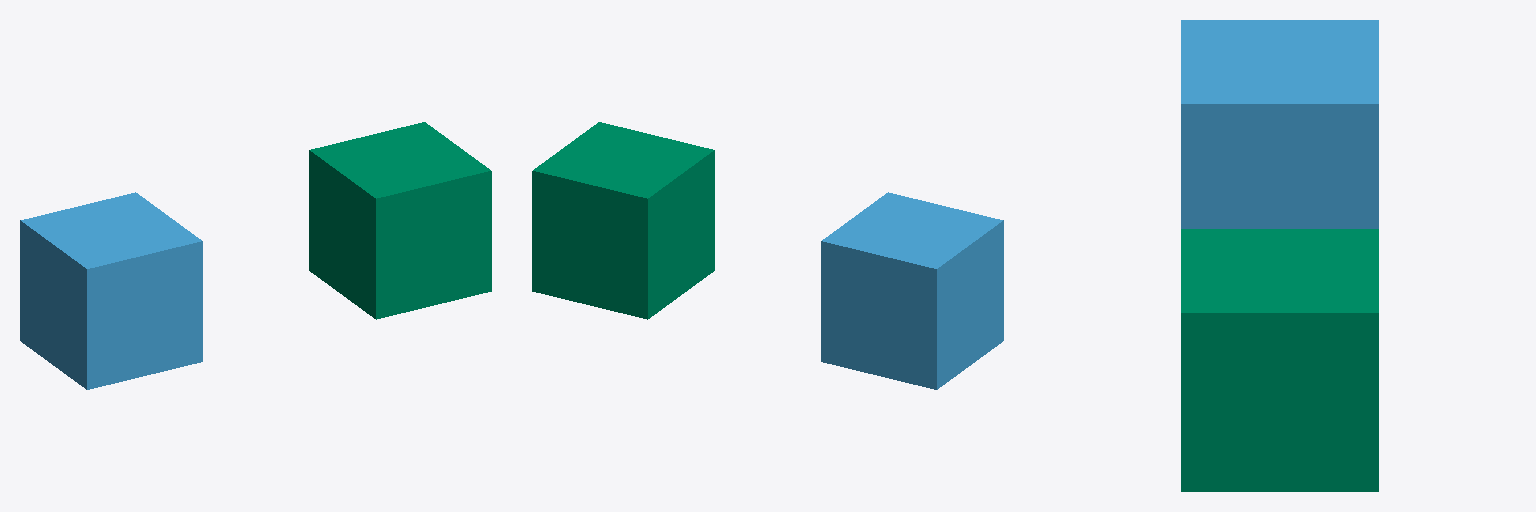
The robot description file, URDF, robot "mck":
<?xml version="1.0" ?>
<!-- pi 3.14159265359 1.57079632679-->
<robot name="mck">
  <link name="world">
  </link>
  <joint name="fixed" type="fixed">
    <origin rpy="0 0 0" xyz="0 0 0.0 "/>
    <parent link="world"/>
    <child link="base_link"/>
  </joint>

  <link name="base_link">
    <visual>
        <geometry>
            <box size="0.2 0.2 0.2"/>
        </geometry>
    </visual>
    <collision>
        <geometry>
            <box size="0.2 0.2 0.2"/>
        </geometry>
    </collision>
    <inertial>
        <mass value="1"/>
        <inertia ixx="0.1" ixy="0.0" ixz="0.0" iyy="0.1" iyz="0.0" izz="0.1"/>
    </inertial>
  </link>

  <joint name="first_spring_damper" type="prismatic">
    <origin rpy="0 0 0" xyz="0.5 0 0"/>
    <axis xyz="1 0 0"/>
    <parent link="base_link"/>
    <child link="link_1"/>
    <dynamics damping="0.5"/>
    <limit effort="10000" lower="-10.0" upper="10.0" velocity="5.0"/>
  </joint>

    <link name="link_1">
        <visual>
            <geometry>
                <box size="0.2 0.2 0.2"/>
            </geometry>
        </visual>
        <collision>
            <geometry>
                <box size="0.2 0.2 0.2"/>
            </geometry>
        </collision>
        <inertial>
            <mass value="1"/>
            <inertia ixx="0.1" ixy="0.0" ixz="0.0" iyy="0.1" iyz="0.0" izz="0.1"/>
        </inertial>
    </link>
</robot>

--- Facts derived from the render (not from the file) ---
Views: 3 orthographic renders of the robot side by side, from view 1: azimuth 30°, elevation 25°; view 2: azimuth 150°, elevation 25°; view 3: azimuth 270°, elevation 25°.
Robot: mck — 3 links, 2 joints (1 prismatic, 1 fixed); root link world; default pose: every joint at zero.
Visible links, largest first — view 1: base_link, link_1; view 2: base_link, link_1; view 3: link_1, base_link.
Link boxes in pixels (box(x1,y1,x2,y2)): base_link: box(20, 192, 202, 389); link_1: box(309, 122, 491, 319); base_link: box(821, 192, 1003, 389); link_1: box(532, 122, 714, 319); link_1: box(1181, 229, 1378, 491); base_link: box(1181, 20, 1378, 228).
Bounding box of the posed robot: 0.7 × 0.2 × 0.2 m (x, y, z).
Geometry: primitives only (box / cylinder / sphere), no mesh files.
